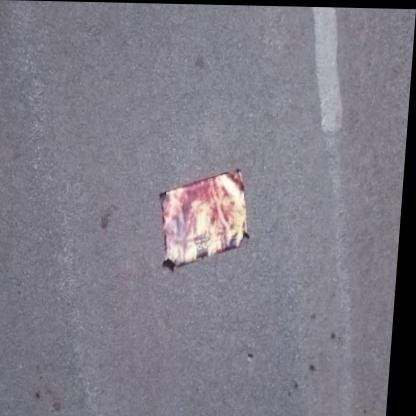fire-poster: (156, 165, 258, 275)
